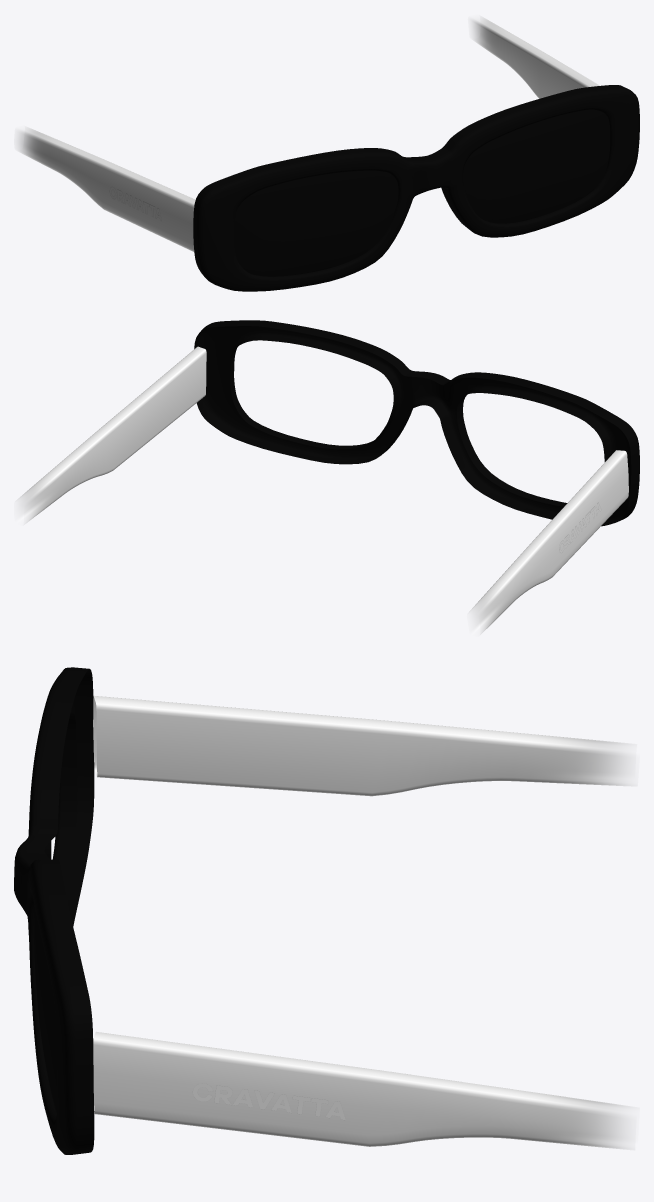
The model's file is fashion.glb.
The picture shows the model from 3 angles, top to bottom: view 1: azimuth 30°, elevation 25°; view 2: azimuth 150°, elevation 25°; view 3: azimuth 270°, elevation 25°; orthographic projection. The views are drawn at different scales.
Visible parts, largest first — view 1: 5 aLens.001_4, Frame_m8_32, Arm.R.002_36, Arm.R.001_34, logo.001_35; view 2: Frame_m8_32, Arm.R.001_34, Arm.R.002_36; view 3: Arm.R.002_36, Arm.R.001_34, Frame_m8_32, 5 aLens.001_4, logo_33.
Boxes of the visible parts, <box> form: 5 aLens.001_4: <box>234,109,610,276</box>; Frame_m8_32: <box>193,85,639,291</box>; Arm.R.002_36: <box>17,126,195,251</box>; Arm.R.001_34: <box>472,16,599,98</box>; logo.001_35: <box>110,187,161,220</box>; Frame_m8_32: <box>194,320,639,526</box>; Arm.R.001_34: <box>16,346,206,523</box>; Arm.R.002_36: <box>469,450,628,634</box>; Arm.R.002_36: <box>93,695,635,796</box>; Arm.R.001_34: <box>93,1032,633,1149</box>; Frame_m8_32: <box>14,667,94,1154</box>; 5 aLens.001_4: <box>33,905,57,1113</box>; logo_33: <box>193,1083,345,1120</box>.
Size of the model in its own units: 0.1535 by 0.0394 by 0.1087.
4 materials, 2 textured.
